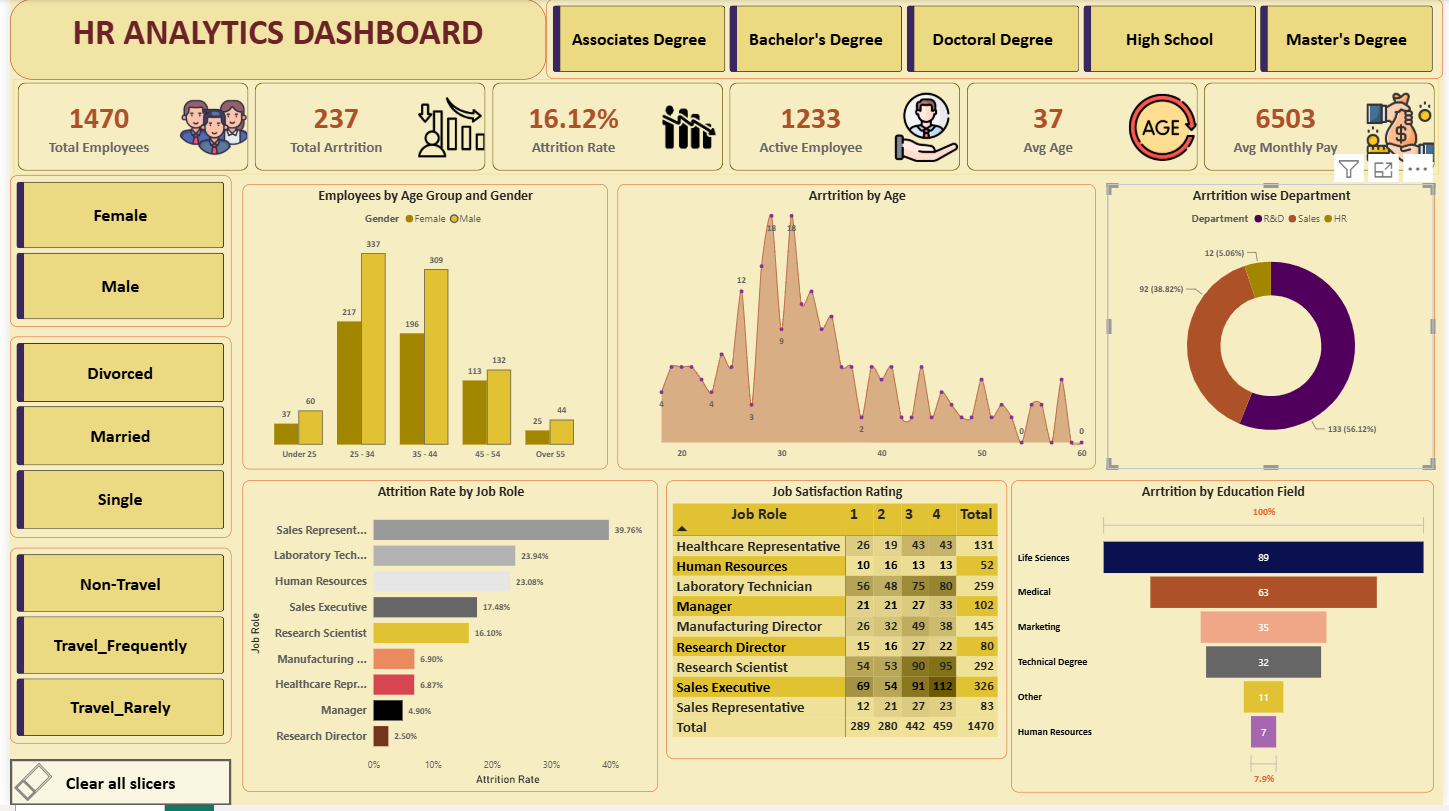

Layout of this report page (visuals, bound fields, positions):
{"tool":"powerbi","page":{"name":"HR Dashboard","canvas":[1920,1080],"ordinal":0},"visuals":[{"type":"cardVisual","fields":{"Data":["HR data.Total Employees","HR data.Total Arrtition","HR data.Attrition Rate","HR data.Active Employee","Avg(HR data.Age)","Avg(HR data.Monthly Income)"]},"box":[0,108,1920,128],"z":0},{"type":"clusteredColumnChart","title":"Employees by Age Group and Gender","fields":{"Category":["HR data.Age Group"],"Y":["HR data.Total Employees"],"Series":["HR data.Gender"]},"box":[310.7,248.2,489.3,382.1],"z":1000},{"type":"areaChart","title":"Arrtrition by Age","fields":{"Category":["HR data.Age"],"Y":["HR data.Total Arrtition"]},"box":[814.3,248.2,641.1,382.1],"z":2000},{"type":"donutChart","title":"Arrtrition wise Department","fields":{"Category":["HR data.Department"],"Y":["HR data.Total Arrtition"]},"box":[1470,248.3,438.3,381.7],"z":3000},{"type":"clusteredBarChart","fields":{"Category":["HR data.Job Role"],"Y":["HR data.Attrition Rate"]},"box":[310.7,644.6,557.1,417.9],"z":4000},{"type":"pivotTable","title":"Job Satisfaction Rating","fields":{"Rows":["HR data.Job Role"],"Columns":["HR data.Job Satisfaction"],"Values":["HR data.Total Employees"]},"box":[878.6,644.6,457.1,373.2],"z":5000},{"type":"funnel","title":"Arrtrition by Education Field","fields":{"Category":["HR data.Education Field"],"Y":["HR data.Total Arrtrition"]},"box":[1341.7,645,566.7,418.3],"z":6000},{"type":"advancedSlicerVisual","fields":{"Values":["HR data.Gender"]},"box":[0,235.7,296.4,203.6],"z":7000},{"type":"advancedSlicerVisual","fields":{"Values":["HR data.Marital Status"]},"box":[0,451.8,296.4,269.6],"z":8000},{"type":"advancedSlicerVisual","fields":{"Values":["HR data.Business Travel"]},"box":[0,735.7,296.4,262.5],"z":9000},{"type":"advancedSlicerVisual","fields":{"Values":["HR data.Education"]},"box":[717.9,0,1201.8,107.1],"z":10000},{"type":"actionButton","box":[0,1017.9,296.4,62.5],"z":11000},{"type":"textbox","box":[0,0,718.3,108.3],"z":12000}]}

Visuals, with their boxes in screenshot pixels (x1, y1, x2, y2), scaled from the page's 1920x1080 canvas onto the 1449x811 screenshot:
cardVisual - HR data.Total Employees x HR data.Total Arrtition: [x1=0, y1=81, x2=1448, y2=177]
"Employees by Age Group and Gender" clusteredColumnChart: [x1=234, y1=186, x2=604, y2=473]
"Arrtrition by Age" areaChart: [x1=615, y1=186, x2=1098, y2=473]
"Arrtrition wise Department" donutChart: [x1=1109, y1=186, x2=1440, y2=473]
clusteredBarChart - HR data.Job Role x HR data.Attrition Rate: [x1=234, y1=484, x2=655, y2=798]
"Job Satisfaction Rating" pivotTable: [x1=663, y1=484, x2=1008, y2=764]
"Arrtrition by Education Field" funnel: [x1=1013, y1=484, x2=1440, y2=798]
advancedSlicerVisual - HR data.Gender: [x1=0, y1=177, x2=224, y2=330]
advancedSlicerVisual - HR data.Marital Status: [x1=0, y1=339, x2=224, y2=542]
advancedSlicerVisual - HR data.Business Travel: [x1=0, y1=552, x2=224, y2=750]
advancedSlicerVisual - HR data.Education: [x1=542, y1=0, x2=1448, y2=80]
actionButton: [x1=0, y1=764, x2=224, y2=810]
textbox: [x1=0, y1=0, x2=542, y2=81]
